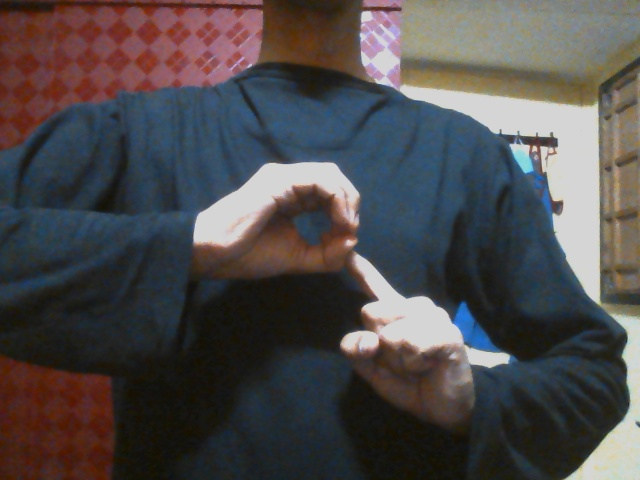Q: (200, 158, 466, 431)
